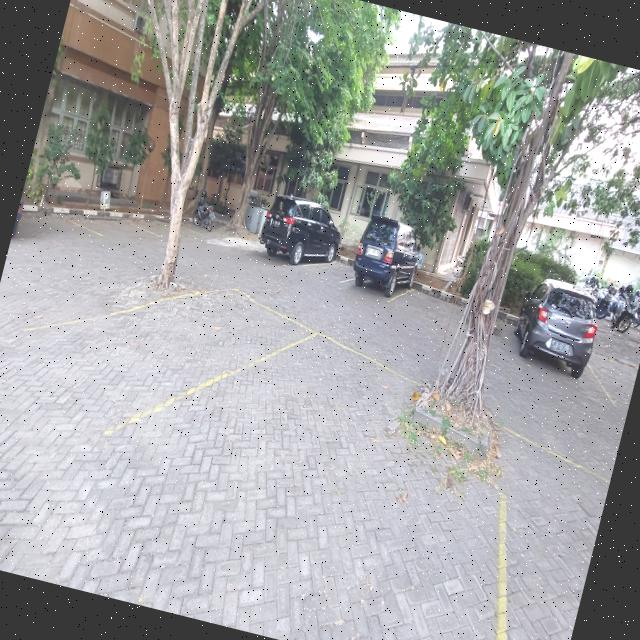empty: (110, 334, 425, 592), (24, 285, 321, 429), (501, 432, 609, 640), (386, 286, 465, 332), (64, 216, 161, 235), (18, 216, 102, 237), (285, 261, 353, 281)
occupied: (493, 277, 612, 401), (340, 212, 419, 303), (251, 194, 341, 268)
